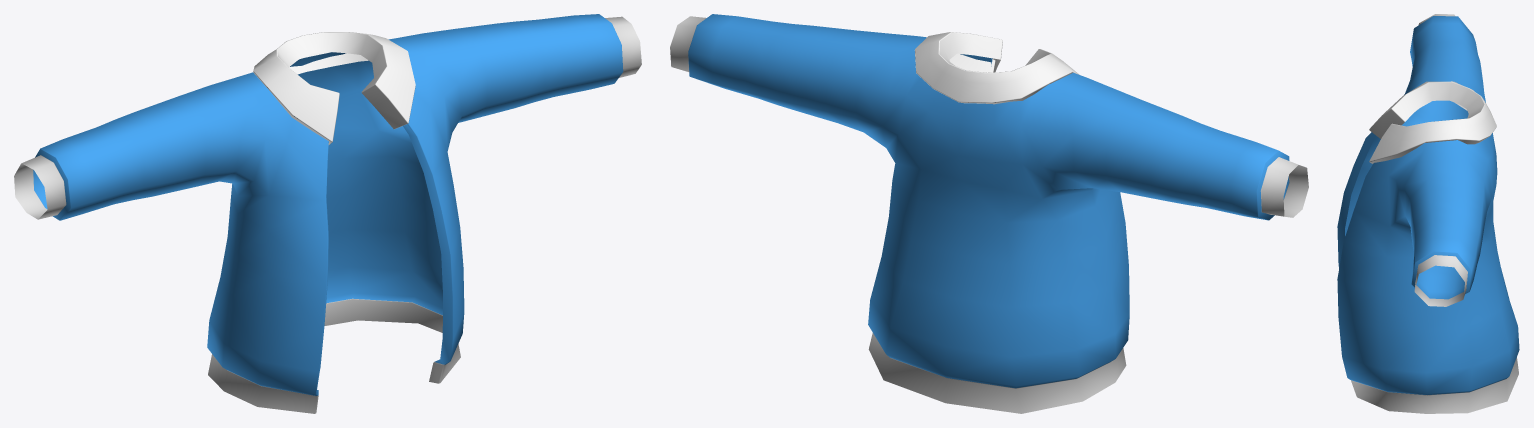
Rendered from Outerwear_Blue_006.glb.
The picture shows the model from 3 angles, left to right: view 1: azimuth 30°, elevation 25°; view 2: azimuth 150°, elevation 25°; view 3: azimuth 270°, elevation 25°; orthographic projection. The views are drawn at different scales.
Visible parts, largest first — view 1: Outerwear_Blue_006; view 2: Outerwear_Blue_006; view 3: Outerwear_Blue_006.
Boxes of the visible parts, <box> form: Outerwear_Blue_006: <box>14,14,641,413</box>; Outerwear_Blue_006: <box>670,14,1308,413</box>; Outerwear_Blue_006: <box>1337,14,1519,413</box>.
Size of the model in its own units: 1.29 by 0.6459 by 0.3903.
1 material, 1 textured.
